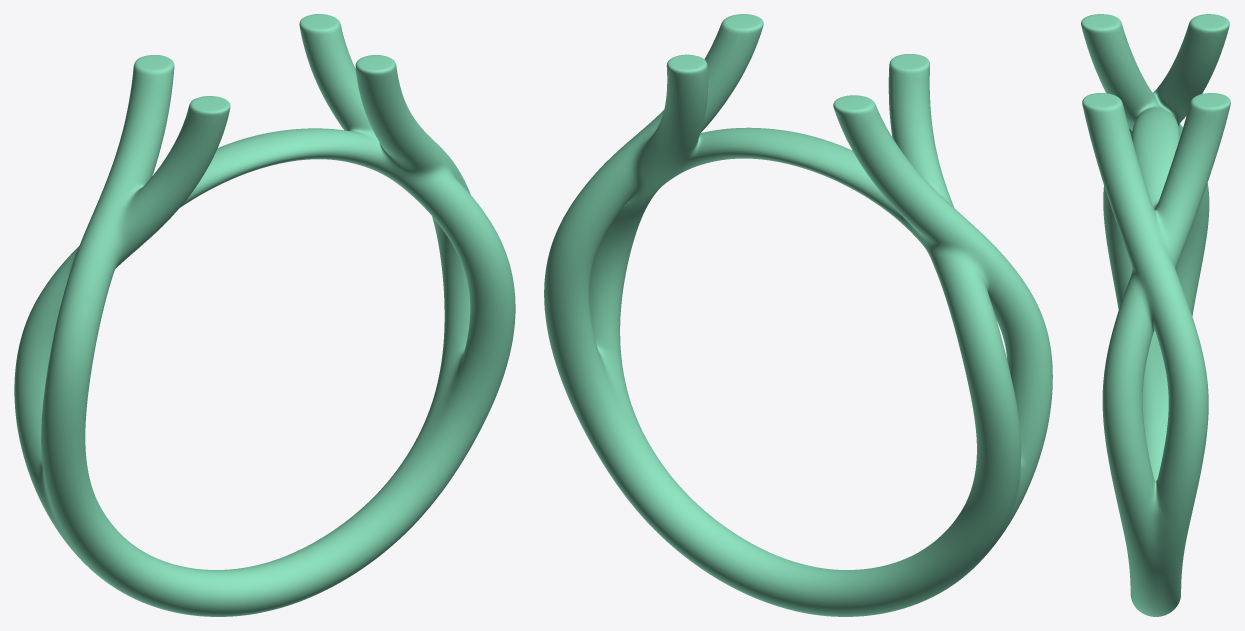
3 views of the same model, side by side, from view 1: azimuth 30°, elevation 25°; view 2: azimuth 150°, elevation 25°; view 3: azimuth 270°, elevation 25° (orthographic). The views are drawn at different scales.
Visible parts, largest first — view 1: Metal02; view 2: Metal02; view 3: Metal02.
Boxes of the visible parts, x1,y1,x2,y2 form: Metal02: (14,14,515,616); Metal02: (544,14,1052,616); Metal02: (1081,14,1230,616).
Size of the model in its own units: 21.09 by 23.35 by 5.96.
